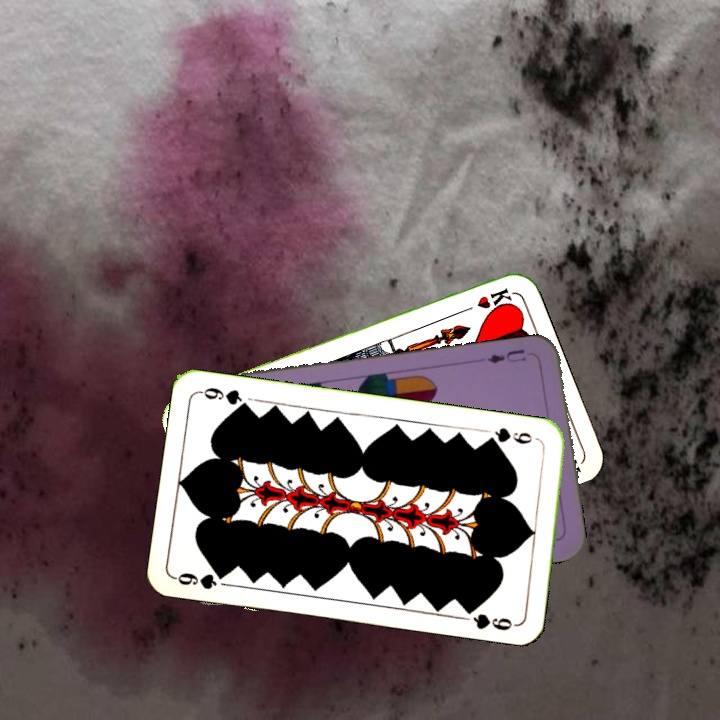EU: (483, 345, 529, 366)
G9: (171, 567, 231, 592), (483, 423, 535, 447)
HK: (456, 284, 514, 316)
